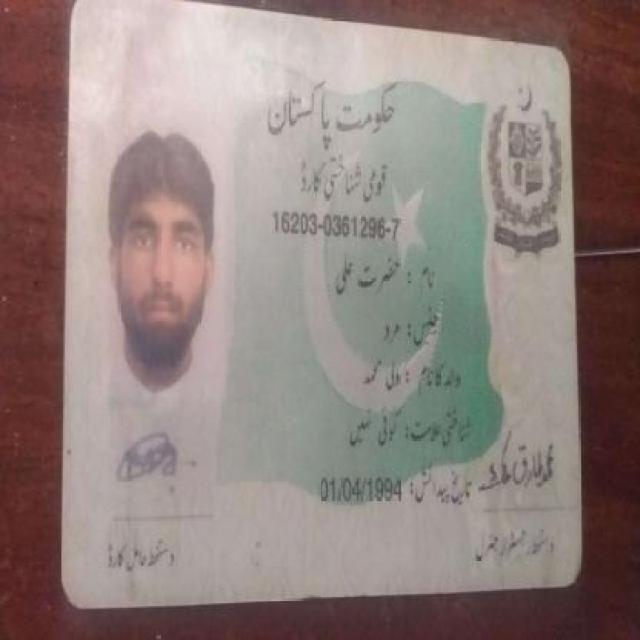Front: (60, 6, 586, 603)
